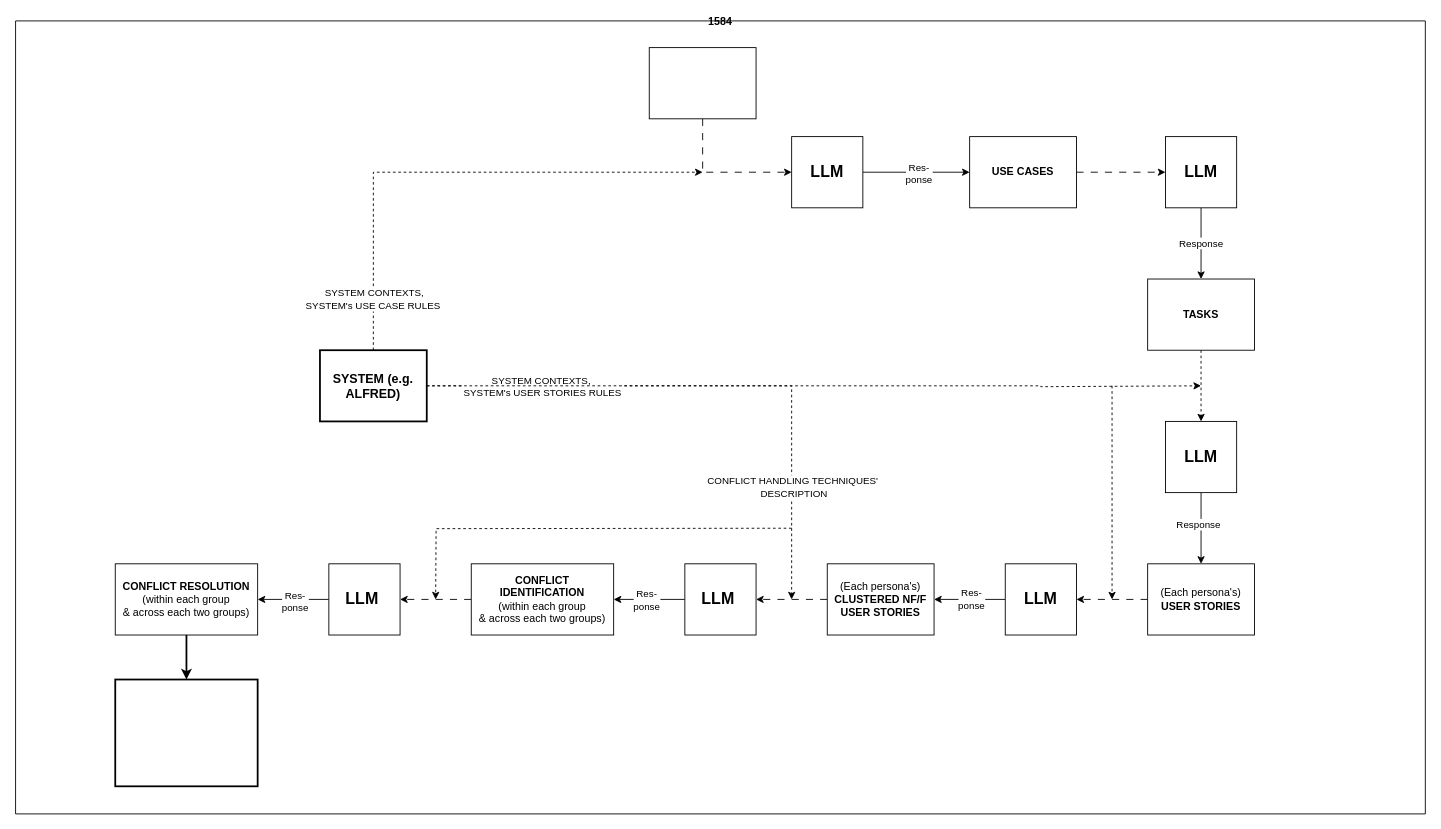
The diagram is 1441 pixels wide and 829 high, and some of its shapes have lost their labels. The centre of each missing label's shape, as x and y in pixels:
"FINAL CONSISTENT USER STORIES" goes at (186,732).
"PERSONAS" goes at (702,83).
